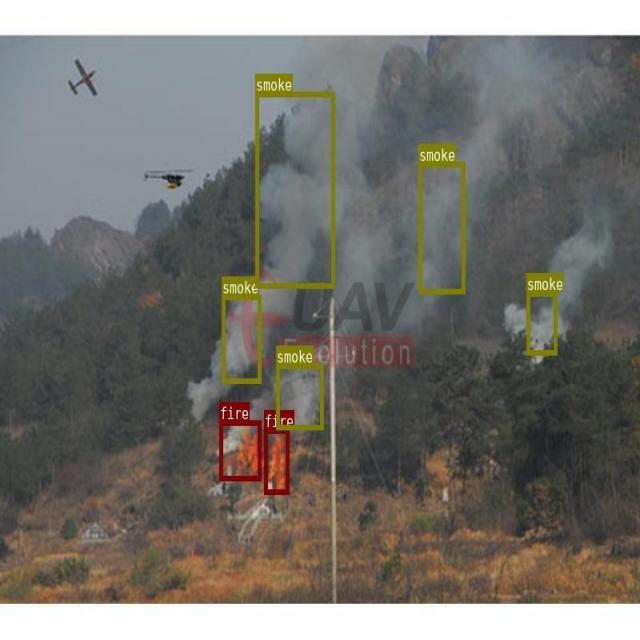fire: (219, 420, 260, 480), (264, 427, 289, 493)
smoke: (255, 91, 334, 287), (418, 162, 465, 293), (221, 294, 261, 383), (276, 363, 322, 429), (526, 291, 556, 354)
